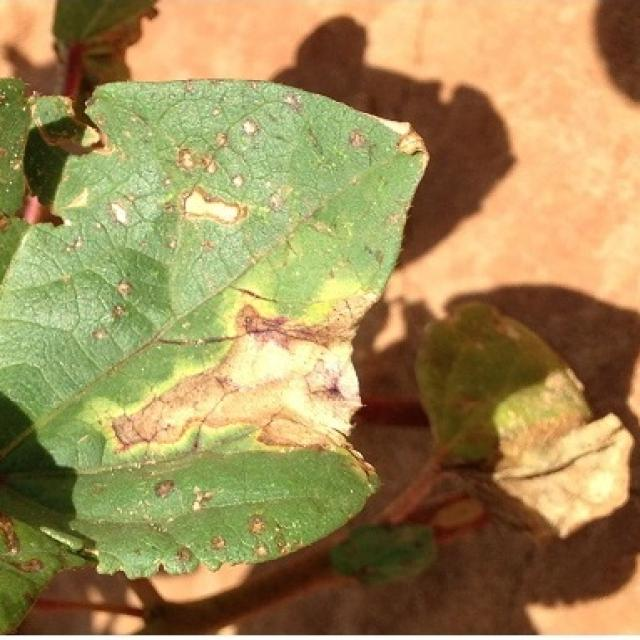Fusarium Wilt: (2, 20, 431, 640)
